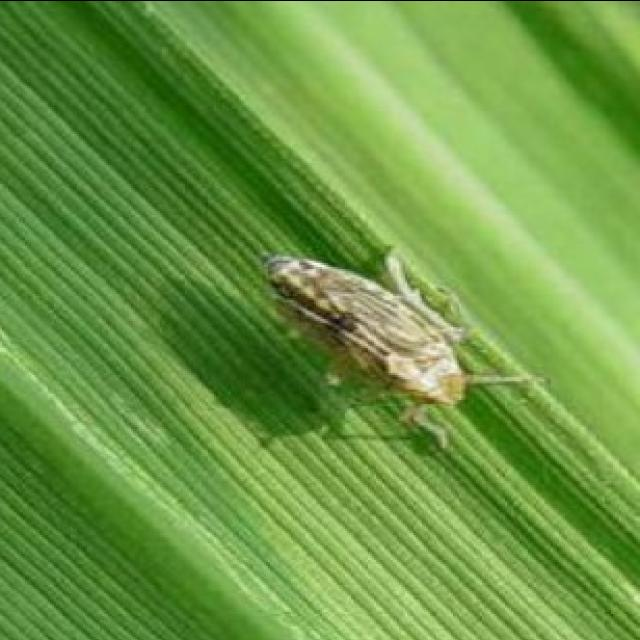brown plant hopper: (268, 251, 544, 447)
